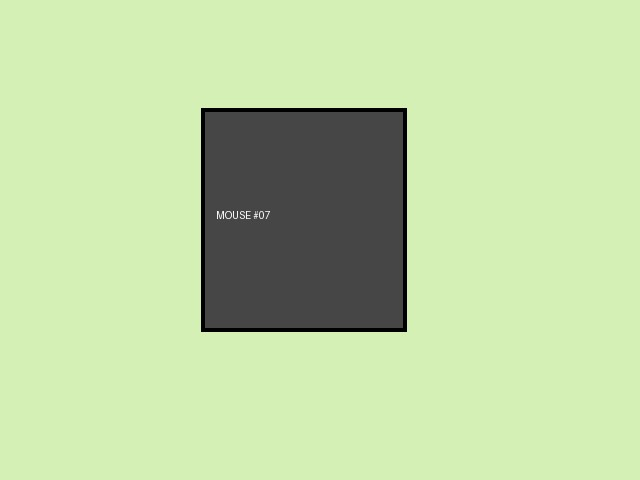mouse: (201, 108, 406, 331)
